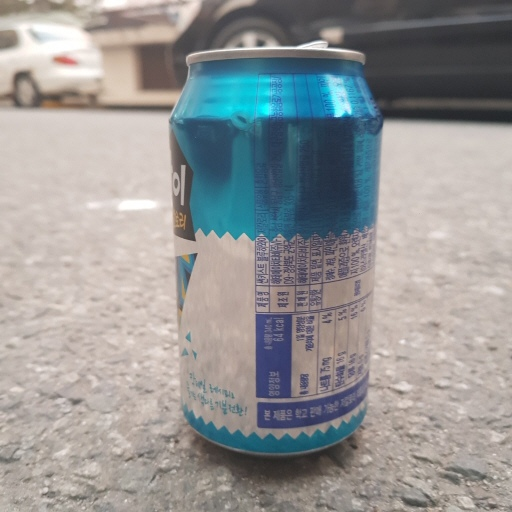Metal_0: (166, 39, 384, 459)
